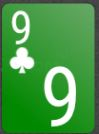Clover: (10, 47, 35, 73)
